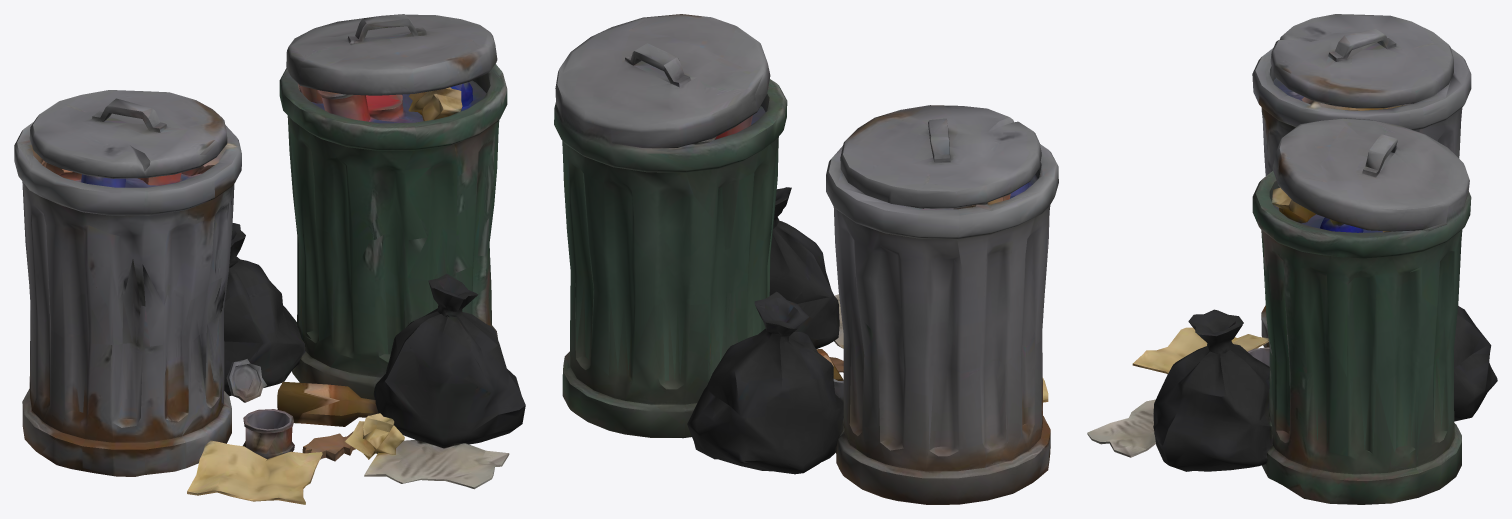
The model's file is isle_trash_bins_idle.glb.
3 renders of one model, left to right at view 1: azimuth 30°, elevation 25°; view 2: azimuth 150°, elevation 25°; view 3: azimuth 270°, elevation 25°, orthographic. The views are drawn at different scales.
Visible parts, largest first — view 1: tripo_node_289a59ff-4b5d-4b35-80fc-5b2df8d1a06d; view 2: tripo_node_289a59ff-4b5d-4b35-80fc-5b2df8d1a06d; view 3: tripo_node_289a59ff-4b5d-4b35-80fc-5b2df8d1a06d.
Boxes of the visible parts, left/top/right/bottom form: tripo_node_289a59ff-4b5d-4b35-80fc-5b2df8d1a06d: left=14, top=14, right=525, bottom=504; tripo_node_289a59ff-4b5d-4b35-80fc-5b2df8d1a06d: left=554, top=14, right=1058, bottom=504; tripo_node_289a59ff-4b5d-4b35-80fc-5b2df8d1a06d: left=1087, top=14, right=1497, bottom=504.
Size of the model in its own units: 1.6 by 1.14 by 1.3.
Materials: 1 (1 with a texture image).
